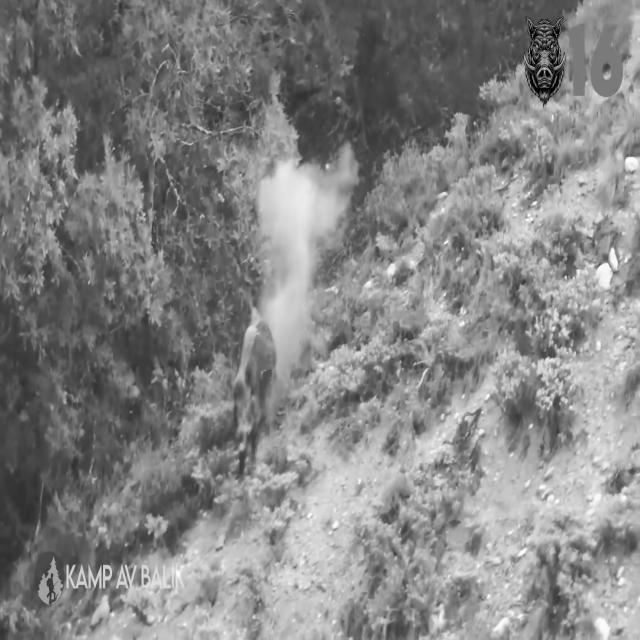boar: (234, 320, 275, 474), (525, 14, 566, 105)
